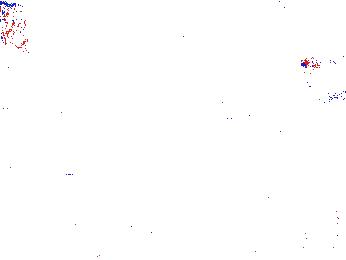X-ray fish: (1, 1, 36, 54)
glassfish: (208, 96, 308, 165)
red belly glassfish: (297, 55, 335, 70)
redtail glassfish: (281, 1, 346, 28), (69, 1, 144, 21)
